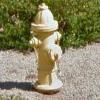Hydrant: (22, 2, 72, 93)
